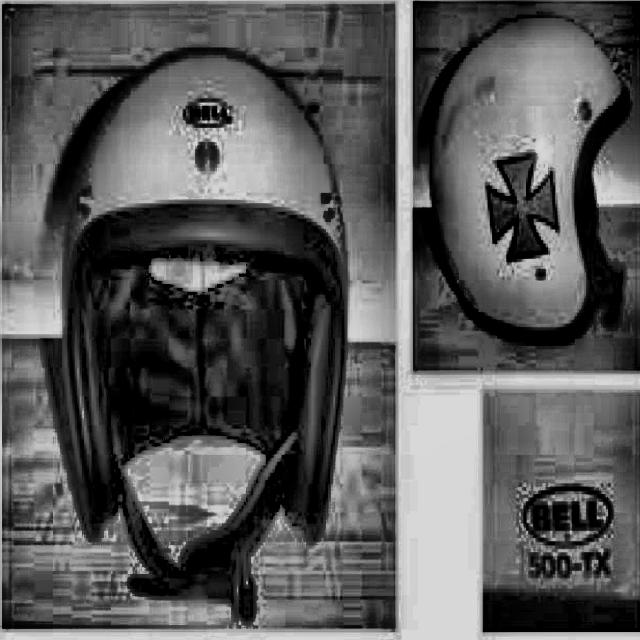Helmet: (29, 51, 359, 635), (427, 27, 637, 345)
